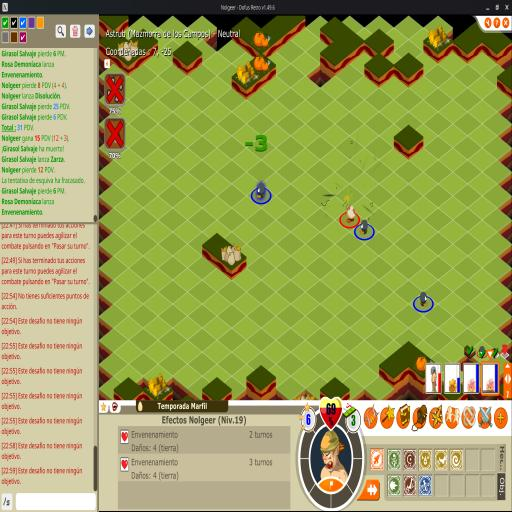Enemigos: (256, 182, 266, 200), (419, 291, 429, 308), (360, 219, 369, 236)
Personaje: (346, 204, 356, 224)
